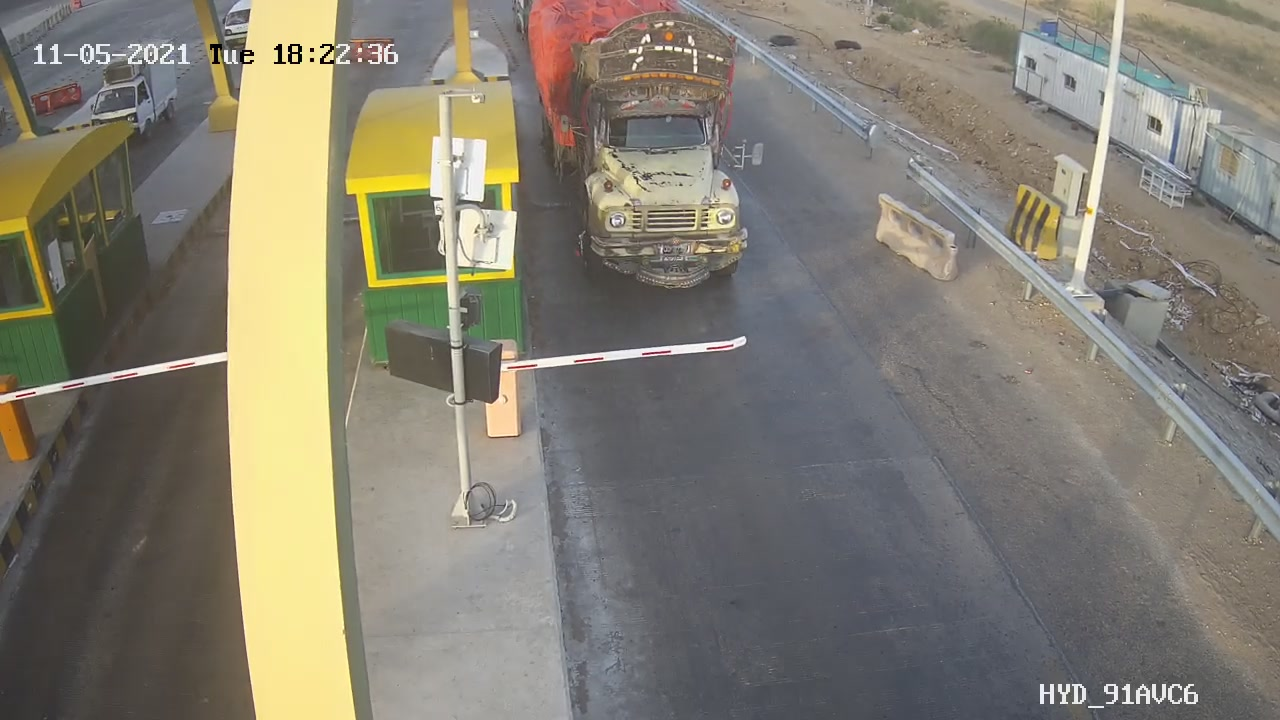F5: (542, 7, 777, 295)
